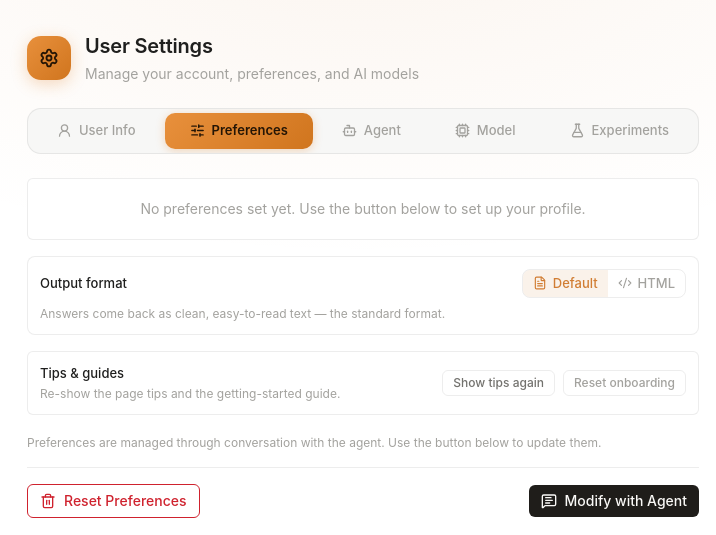
Scenario: Settings — chat hand-off guard › disables Modify with Agent while the workspace POST is in flight
Click the button "Modify with Agent" at (614, 500), box [528,484,699,516]
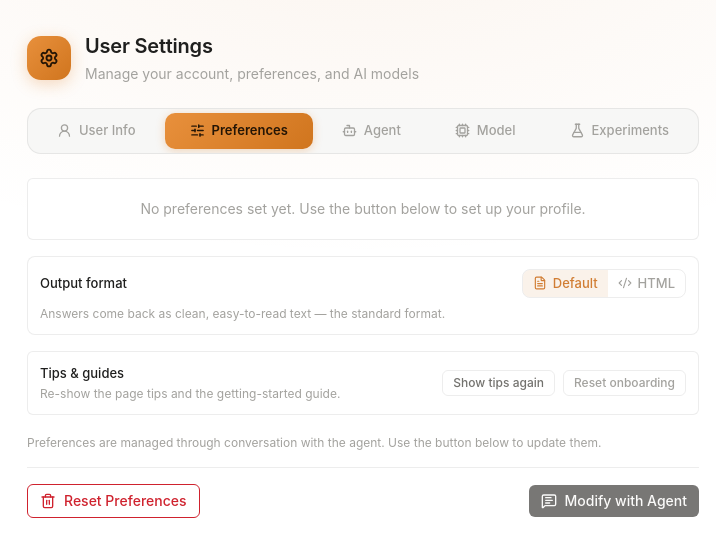
Check: the button "Modify with Agent" is disabled, box [528,484,699,516]
